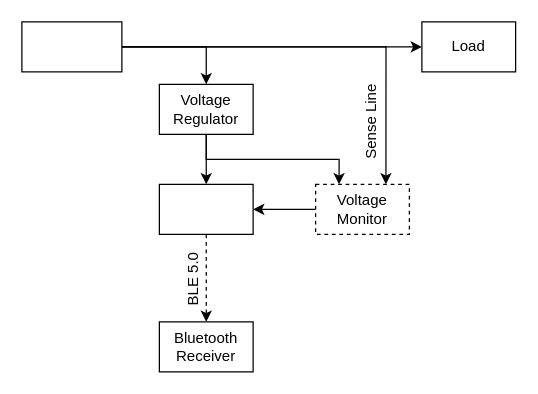
Image size: 538x394. Some labels were removed from this diagram. Each missing label, with the centre of its shape:
"Battery" belongs at (71,46).
"EM9304" belongs at (205,208).
